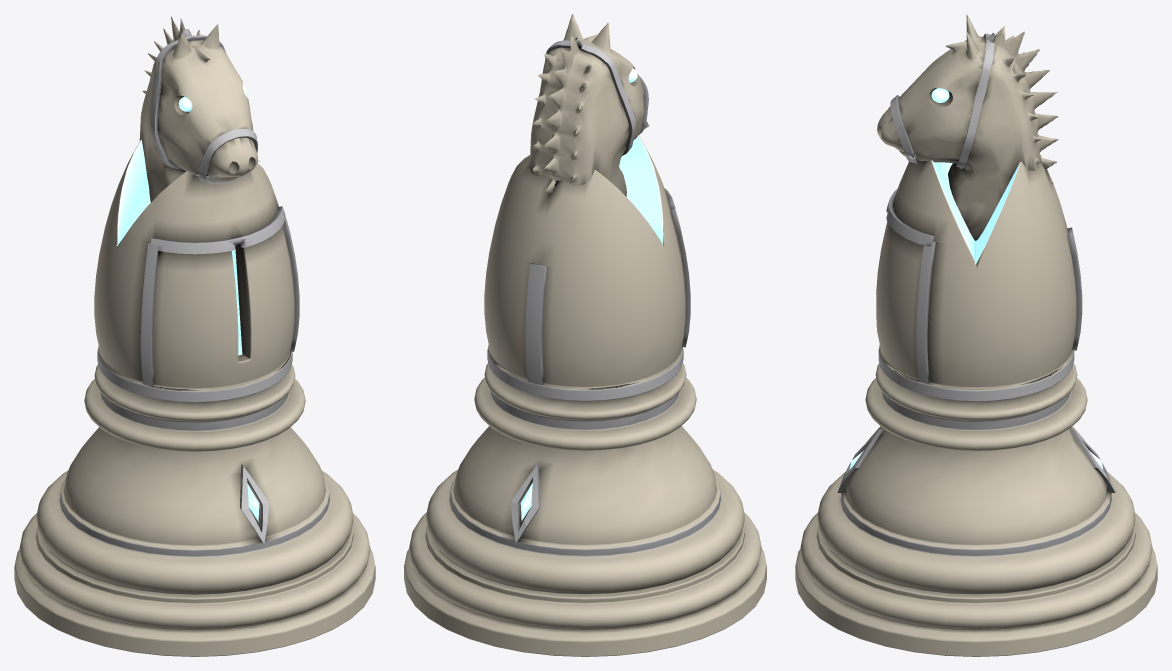
The model's file is archbishop.glb.
3 views of the same model, side by side, from view 1: azimuth 30°, elevation 25°; view 2: azimuth 150°, elevation 25°; view 3: azimuth 270°, elevation 25° (orthographic).
Visible parts, largest first — view 1: archbishop; view 2: archbishop; view 3: archbishop.
Boxes of the visible parts, left/top/right/bottom form: archbishop: left=14, top=16, right=375, bottom=656; archbishop: left=404, top=14, right=766, bottom=656; archbishop: left=795, top=14, right=1157, bottom=656.
Size of the model in its own units: 0.74 by 1.26 by 0.74.
